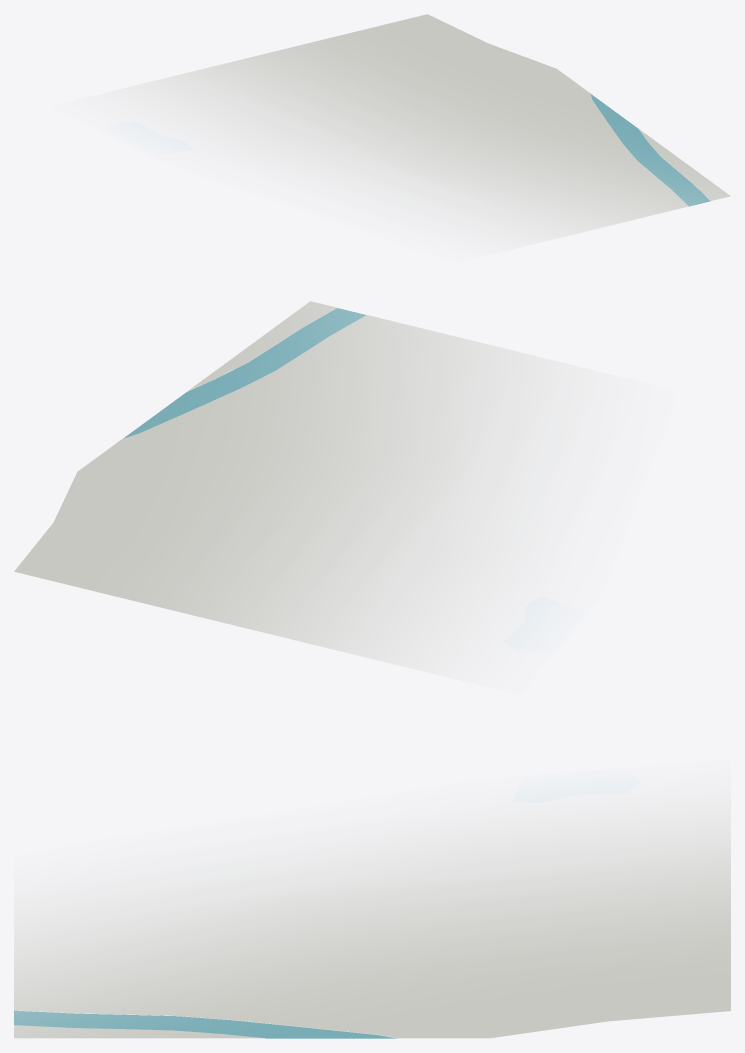
3 views of the same model, one above another, from view 1: azimuth 30°, elevation 25°; view 2: azimuth 150°, elevation 25°; view 3: azimuth 270°, elevation 25° (orthographic). The views are drawn at different scales.
Parts seen in each view (by area): view 1: city; view 2: city; view 3: city.
Boxes of the visible parts, x1,y1,x2,y2 form: city: (104,14,730,247); city: (14,301,595,676); city: (14,795,730,1038).
Bounding box in the file's own units: 500 × 0.18 × 500.
